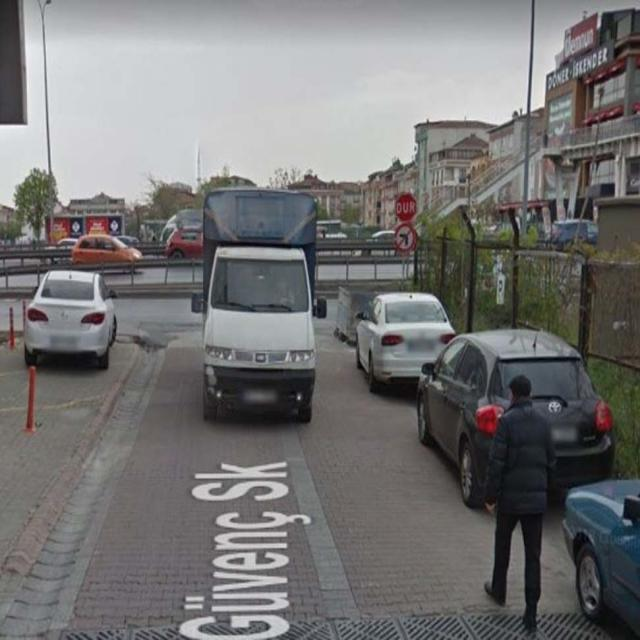dur: (394, 194, 416, 222)
soladonulmez: (395, 223, 415, 253)
